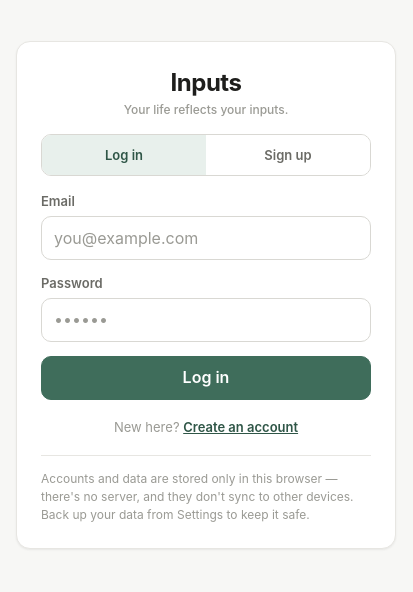
Test: Auth gate › rejects a duplicate email at sign-up
Click the tab "Sign up": [288, 155] box [206,135,370,175]
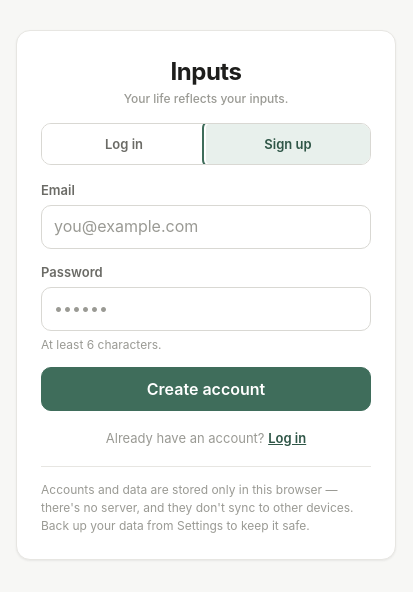
In the field labelled "Email": [206, 227] box [41,205,371,249], type "dup@example.com"
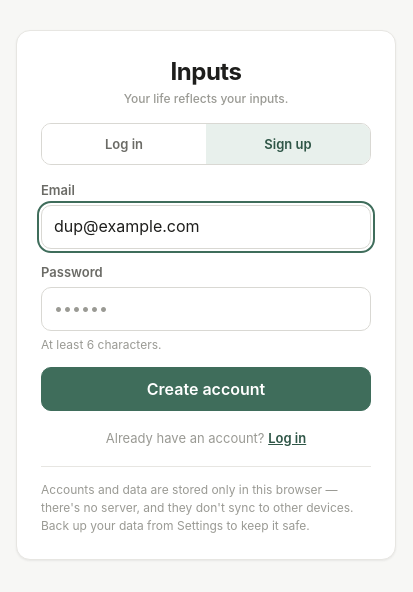
In the password field labelled "Password": [206, 309] box [41,287,371,331], type "secret1"
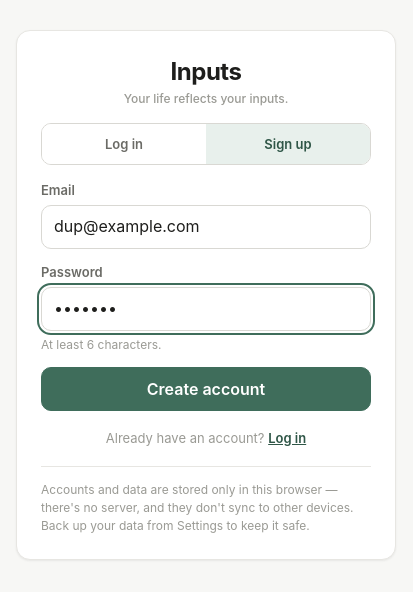
Click the button "Create account": [206, 389] box [41,367,371,411]
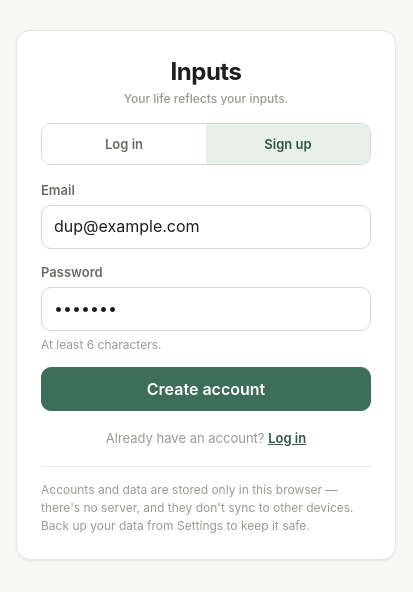
Click the button "Create account": [206, 389] box [41,367,371,411]
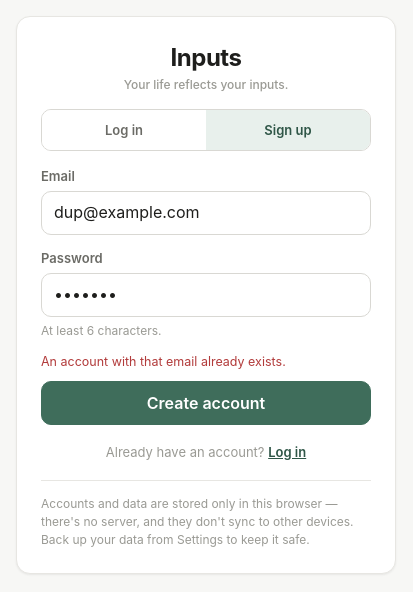
Check: the text "An account with that email already exists." is shown, box [41,354,286,369]
